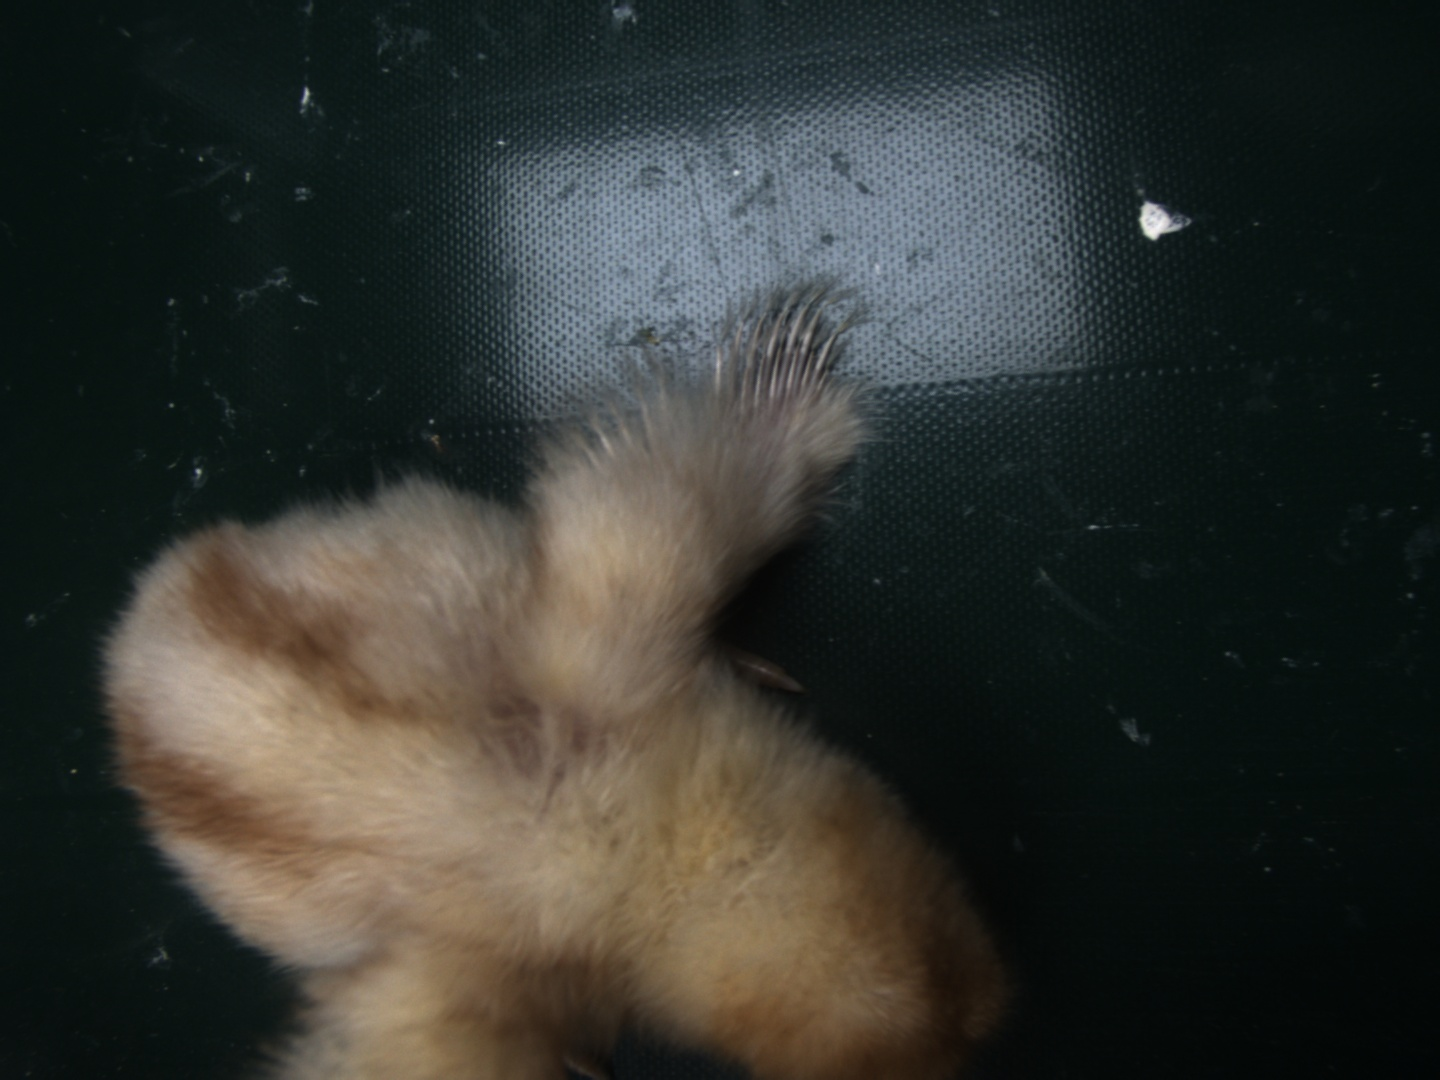female: (700, 306, 836, 432)
